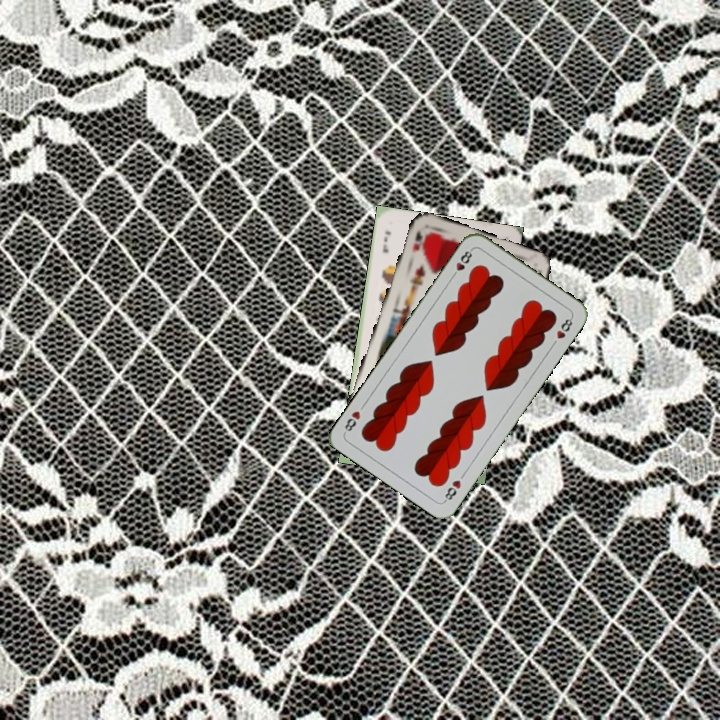E7: (378, 226, 393, 255)
H8: (448, 245, 475, 281), (440, 476, 464, 505)
HK: (408, 226, 425, 256)
